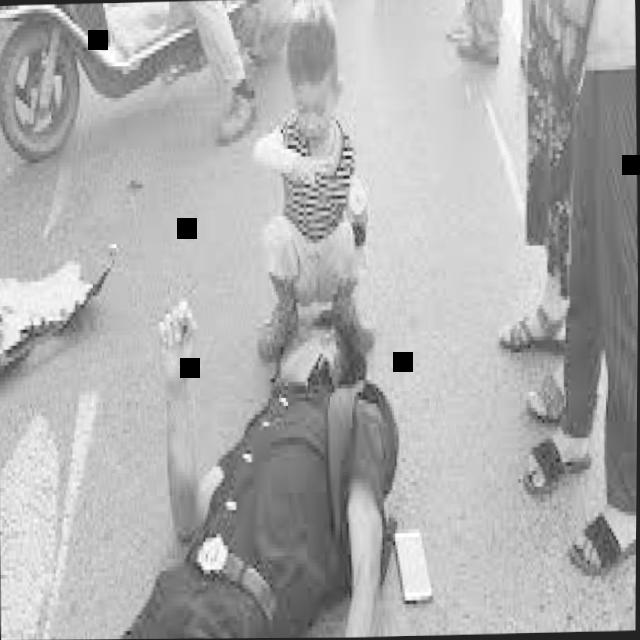Fall-Detected: (6, 256, 410, 640)
